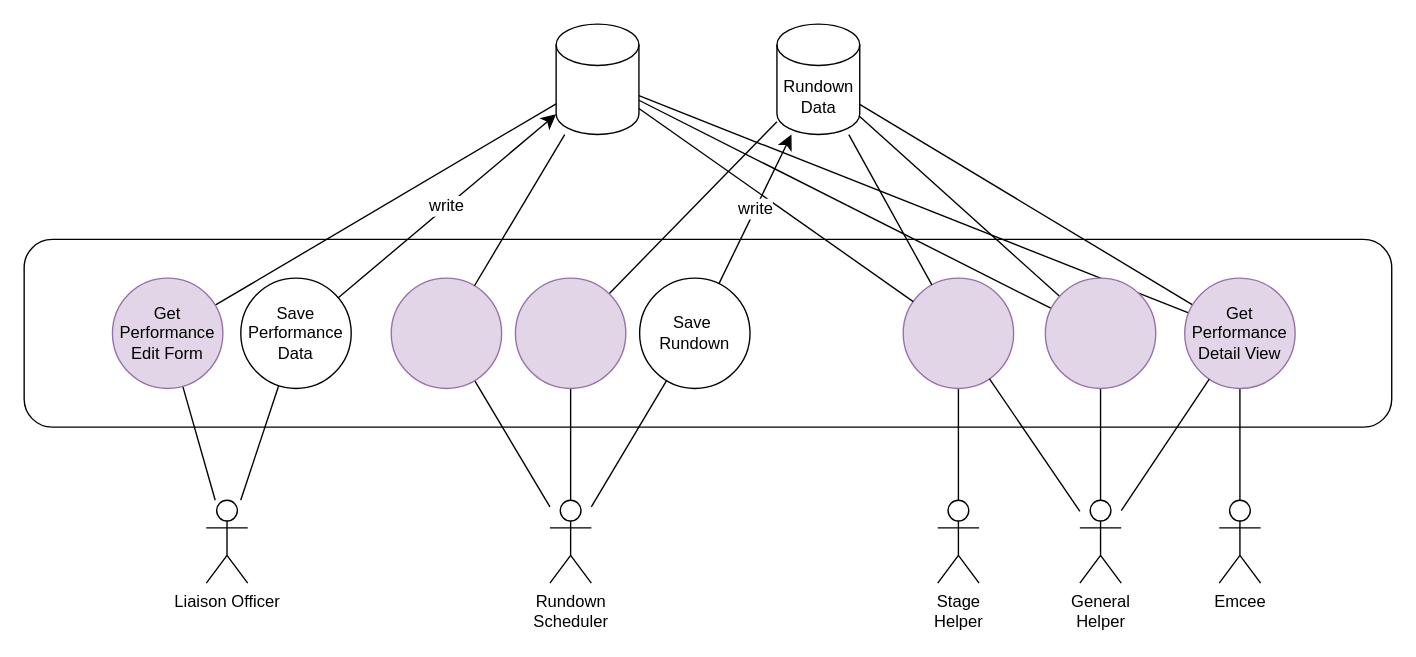
The diagram is 1416 pixels wide and 657 high, and some of its shapes have lost their labels. Each missing label, with the centre of its shape:
"Get Applicant Detail View" goes at (1100,332).
"Get Preference View" goes at (446,332).
"Get Rundown Edit Form" goes at (570,332).
"Get Stage Requirement View" goes at (958,332).
"Perform Data" goes at (597,79).
